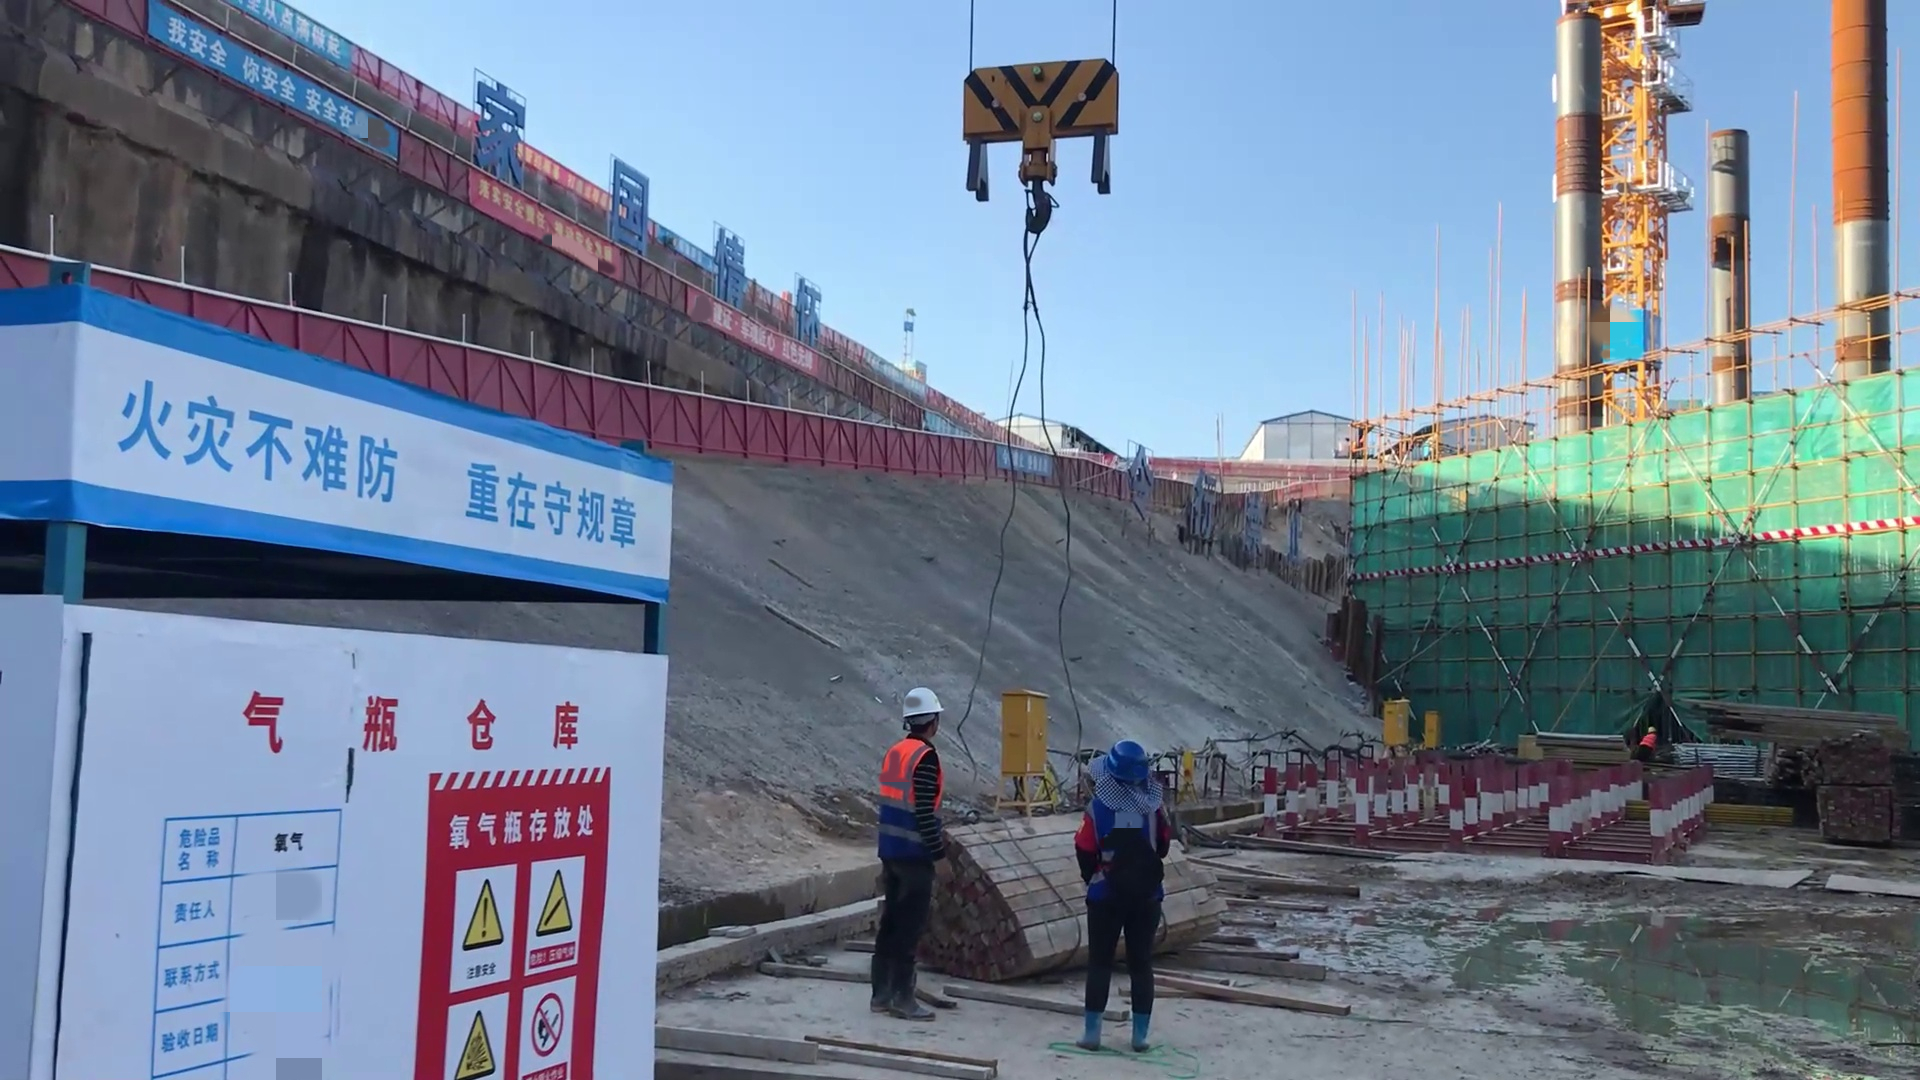ebox: (998, 683, 1056, 777), (1379, 699, 1413, 746), (1420, 707, 1442, 751)
fence: (707, 397, 881, 475), (882, 426, 1001, 486)
helmet: (892, 687, 949, 731), (1093, 743, 1151, 786)
hook: (956, 57, 1125, 201)
person: (864, 680, 962, 1022), (1075, 737, 1157, 1056), (1635, 720, 1664, 764)
slogan: (104, 376, 654, 561), (106, 1, 438, 226), (447, 853, 588, 1080), (463, 167, 629, 345)
vest: (875, 738, 938, 845), (1638, 732, 1656, 750)
wood: (962, 826, 1069, 986), (1684, 687, 1884, 767)
